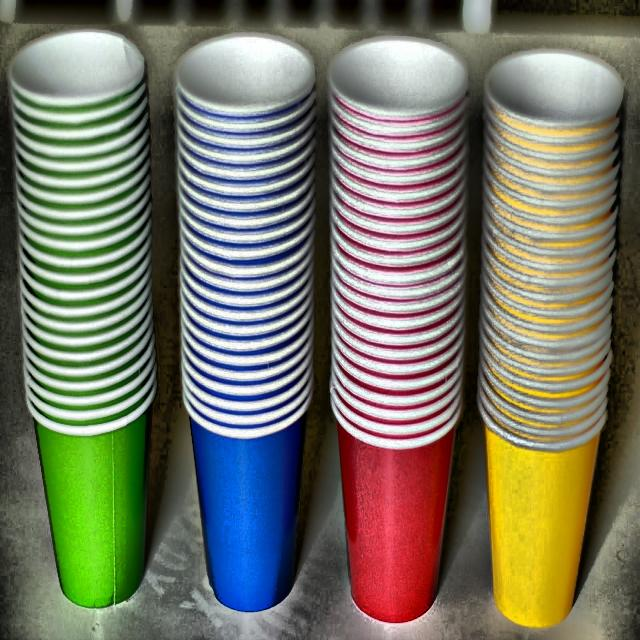Cup: (7, 23, 162, 612), (481, 38, 623, 633), (175, 26, 316, 618), (328, 29, 467, 617)
